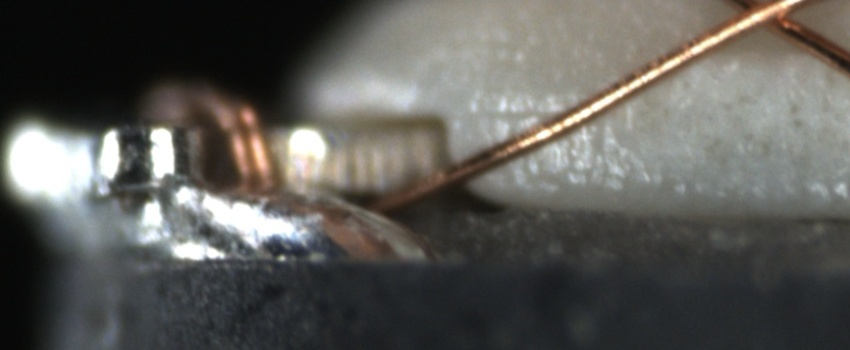CL: (708, 1, 818, 41)
DL: (486, 82, 576, 146)
TE: (153, 77, 289, 183)
